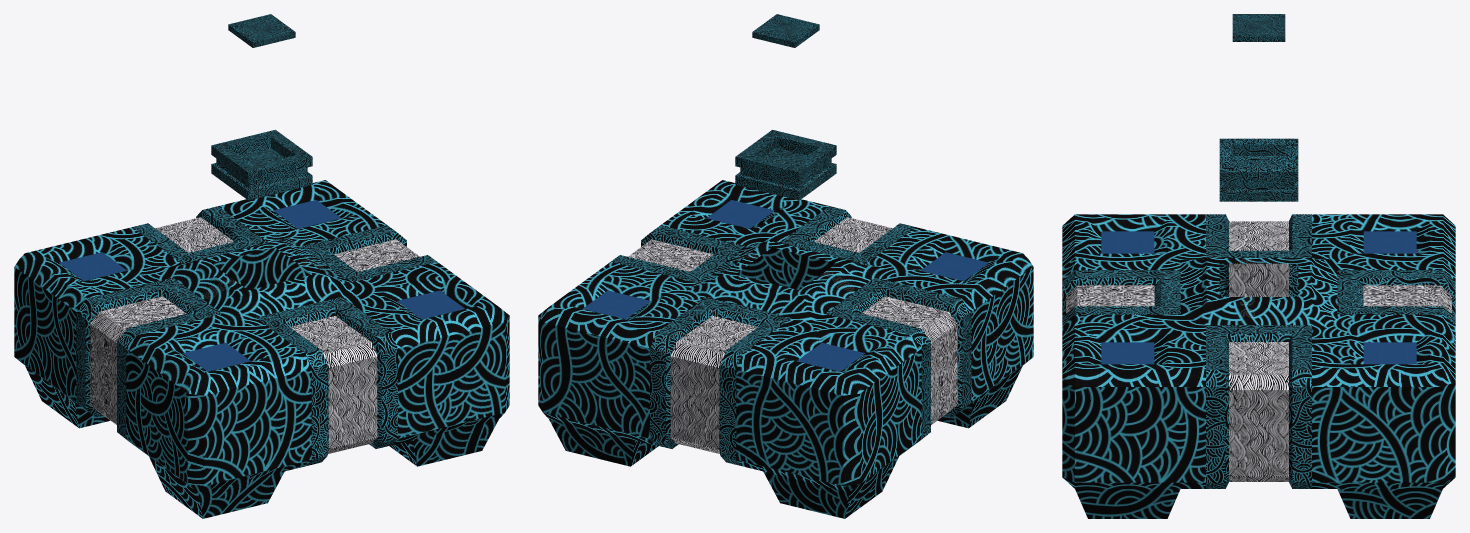
Rendered from SavePlatform.fbx.
The picture shows the model from 3 angles, left to right: view 1: azimuth 30°, elevation 25°; view 2: azimuth 150°, elevation 25°; view 3: azimuth 270°, elevation 25°; orthographic projection. The views are drawn at different scales.
Parts seen in each view (by area): view 1: SavePlatform, GeneratorSecond, GeneratorFirst, Button, Indicator, GeneratorThird, GeneratorFourth, FirstRune; view 2: SavePlatform, GeneratorFourth, GeneratorFirst, Button, Indicator, GeneratorThird, GeneratorSecond, FirstRune; view 3: SavePlatform, GeneratorThird, GeneratorFirst, GeneratorSecond, GeneratorFourth, Button, Indicator, FirstRune, SecondRune.
Boxes of the visible parts, <box> form: SavePlatform: <box>14,180,509,518</box>; GeneratorSecond: <box>256,296,397,465</box>; GeneratorFirst: <box>76,277,222,444</box>; Button: <box>211,129,312,200</box>; Indicator: <box>59,200,464,371</box>; GeneratorThird: <box>301,225,436,282</box>; GeneratorFourth: <box>132,206,267,263</box>; FirstRune: <box>228,14,295,47</box>; SavePlatform: <box>538,180,1033,518</box>; GeneratorFourth: <box>650,296,791,465</box>; GeneratorFirst: <box>825,277,971,444</box>; Button: <box>735,129,836,200</box>; Indicator: <box>583,200,988,371</box>; GeneratorThird: <box>611,225,746,282</box>; GeneratorSecond: <box>780,206,915,263</box>; FirstRune: <box>752,14,819,47</box>; SavePlatform: <box>1062,214,1455,518</box>; GeneratorThird: <box>1206,325,1311,488</box>; GeneratorFirst: <box>1206,214,1311,296</box>; GeneratorSecond: <box>1062,270,1180,325</box>; GeneratorFourth: <box>1337,270,1455,325</box>; Button: <box>1219,138,1298,201</box>; Indicator: <box>1101,231,1416,364</box>; FirstRune: <box>1232,14,1285,41</box>; SecondRune: <box>1239,16,1278,33</box>.
Size of the model in its own units: 600 by 710 by 600.
